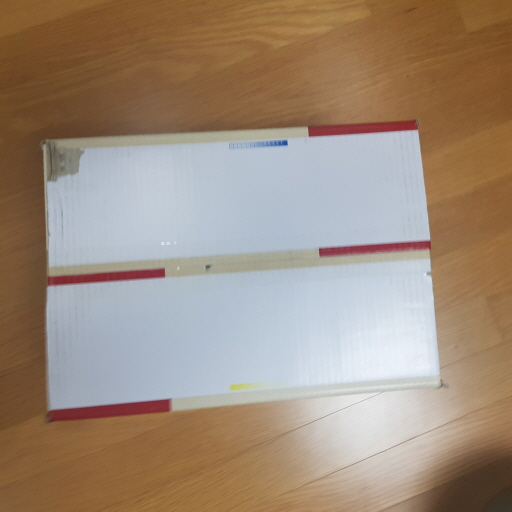Paper_0: (34, 113, 457, 431)
